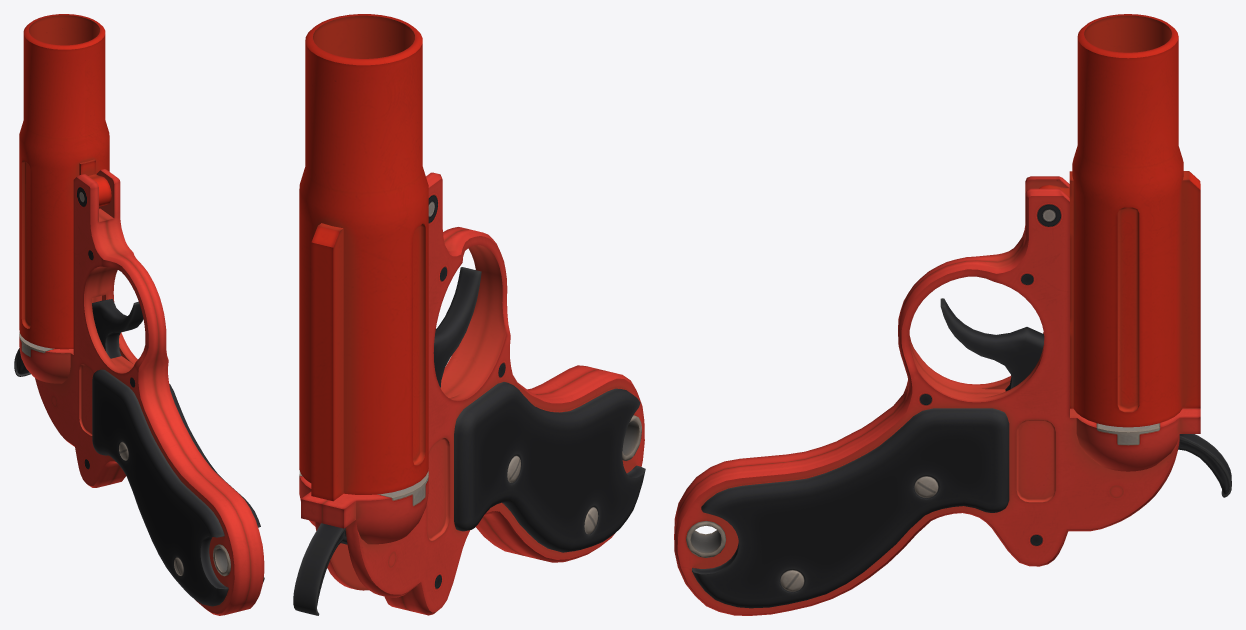
File: FLARE_GUN_D.dae
The picture shows the model from 3 angles, left to right: view 1: azimuth 30°, elevation 25°; view 2: azimuth 150°, elevation 25°; view 3: azimuth 270°, elevation 25°; orthographic projection. The views are drawn at different scales.
Visible parts, largest first — view 1: FlareGunShort_Frame_Circle.000, FlareGunShort_Barrel_Circle.000, FlareGunShort_Trigger_Circle.000; view 2: FlareGunShort_Barrel_Circle.000, FlareGunShort_Frame_Circle.000, FlareGunShort_Trigger_Circle.000, FlareGunShort_Hammer_Circle.000; view 3: FlareGunShort_Frame_Circle.000, FlareGunShort_Barrel_Circle.000, FlareGunShort_Trigger_Circle.000, FlareGunShort_Hammer_Circle.000.
Part boxes in pixels (x1,y1,x2,y2): FlareGunShort_Frame_Circle.000: (19,169,264,615); FlareGunShort_Barrel_Circle.000: (19,14,111,349); FlareGunShort_Trigger_Circle.000: (92,299,143,358); FlareGunShort_Barrel_Circle.000: (299,14,428,501); FlareGunShort_Frame_Circle.000: (299,172,645,615); FlareGunShort_Trigger_Circle.000: (433,267,481,387); FlareGunShort_Hammer_Circle.000: (293,523,347,615); FlareGunShort_Frame_Circle.000: (674,176,1200,615); FlareGunShort_Barrel_Circle.000: (1039,14,1200,427); FlareGunShort_Trigger_Circle.000: (940,298,1044,391); FlareGunShort_Hammer_Circle.000: (1178,434,1231,497).
Bounding box in the file's own units: 0.0472 × 0.2362 × 0.2678.
1 material, 1 textured.
